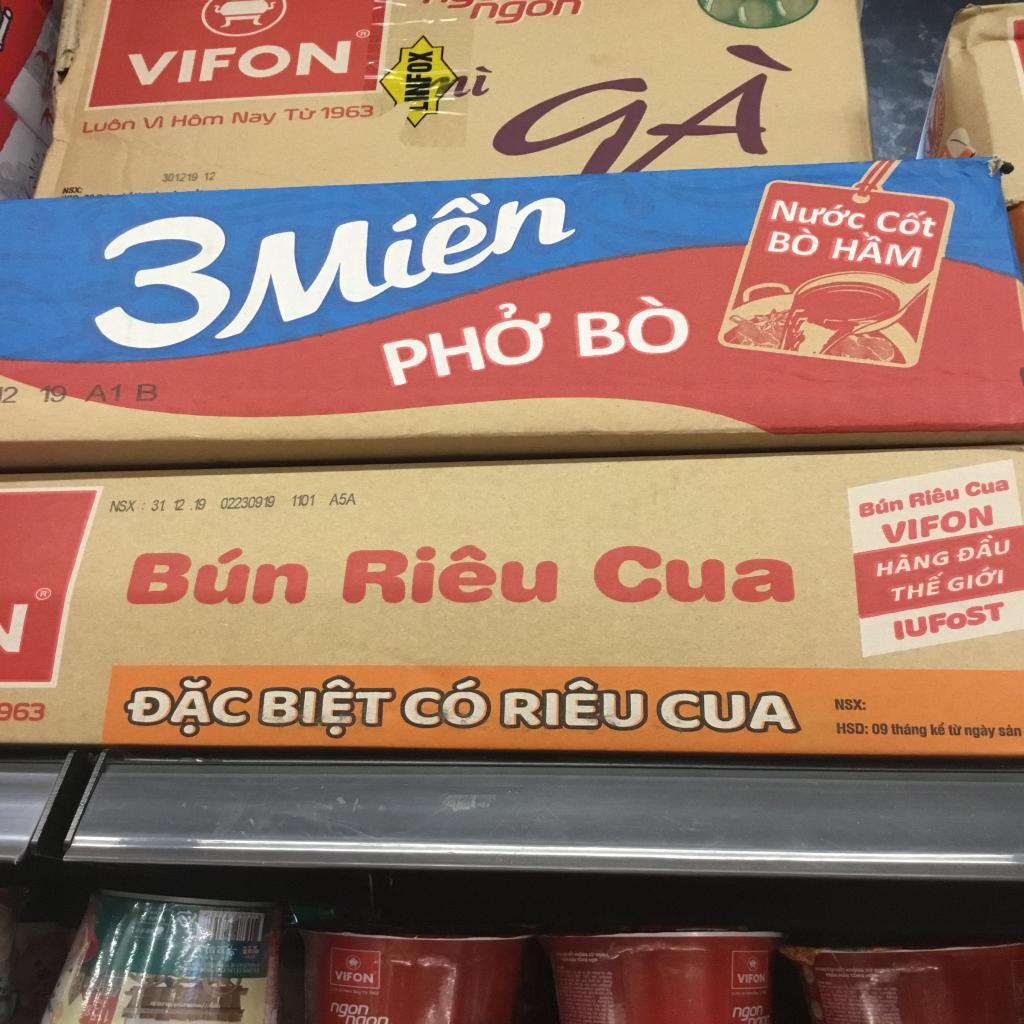text: (245, 336, 462, 610), (34, 166, 238, 401), (276, 572, 466, 701), (392, 353, 516, 485), (722, 348, 806, 513), (724, 171, 805, 326), (720, 533, 808, 675), (53, 504, 115, 674), (898, 469, 987, 576), (897, 576, 984, 680), (900, 281, 975, 394), (394, 248, 477, 338), (916, 164, 979, 277), (901, 398, 973, 470), (670, 21, 728, 110), (800, 14, 856, 100), (304, 74, 359, 144), (260, 117, 308, 191), (1, 330, 36, 420), (728, 56, 770, 112), (86, 397, 133, 446), (272, 62, 318, 112), (67, 442, 150, 467), (298, 151, 344, 193), (759, 59, 805, 101), (750, 15, 792, 59), (708, 10, 751, 51), (644, 47, 680, 88), (660, 90, 692, 126), (637, 10, 665, 45), (935, 732, 962, 768), (156, 666, 179, 707), (149, 599, 171, 641), (660, 560, 680, 606), (146, 559, 171, 595), (510, 675, 538, 707), (140, 487, 159, 529), (664, 612, 682, 656), (3, 756, 62, 768), (512, 716, 539, 740), (965, 72, 985, 102), (665, 658, 684, 687), (965, 20, 986, 46), (962, 116, 982, 141), (142, 530, 161, 556), (931, 118, 949, 144), (511, 648, 536, 666), (229, 618, 243, 648), (656, 500, 675, 522), (658, 531, 677, 552), (514, 754, 539, 768), (154, 644, 173, 662), (966, 1, 982, 20), (962, 59, 981, 72), (248, 705, 260, 723), (964, 102, 981, 114), (965, 46, 981, 58), (228, 605, 242, 616), (787, 732, 799, 740), (41, 493, 49, 499)
